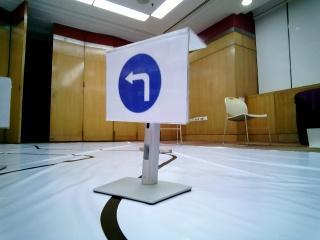left: (105, 44, 181, 117)
